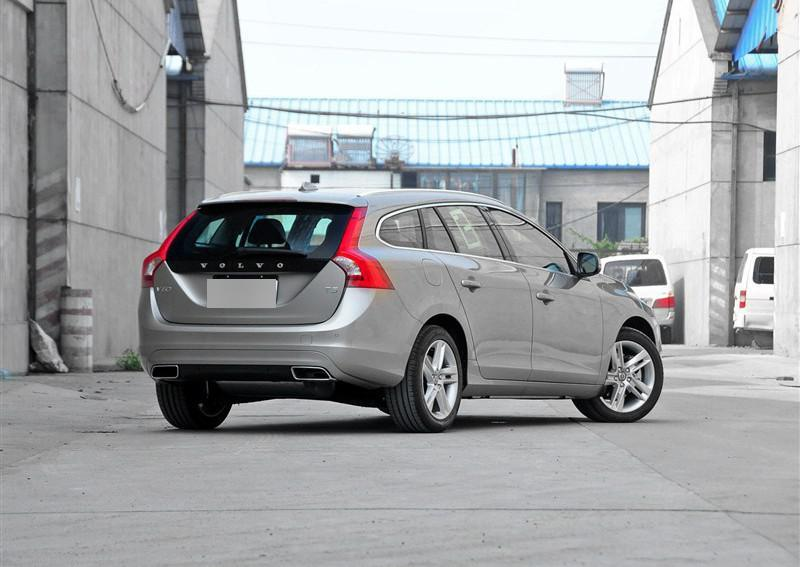Wagon: (130, 178, 670, 436)
